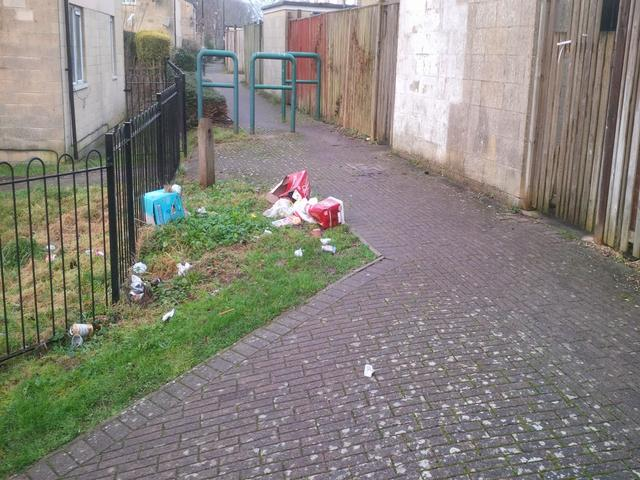garbage: (268, 179, 344, 232)
